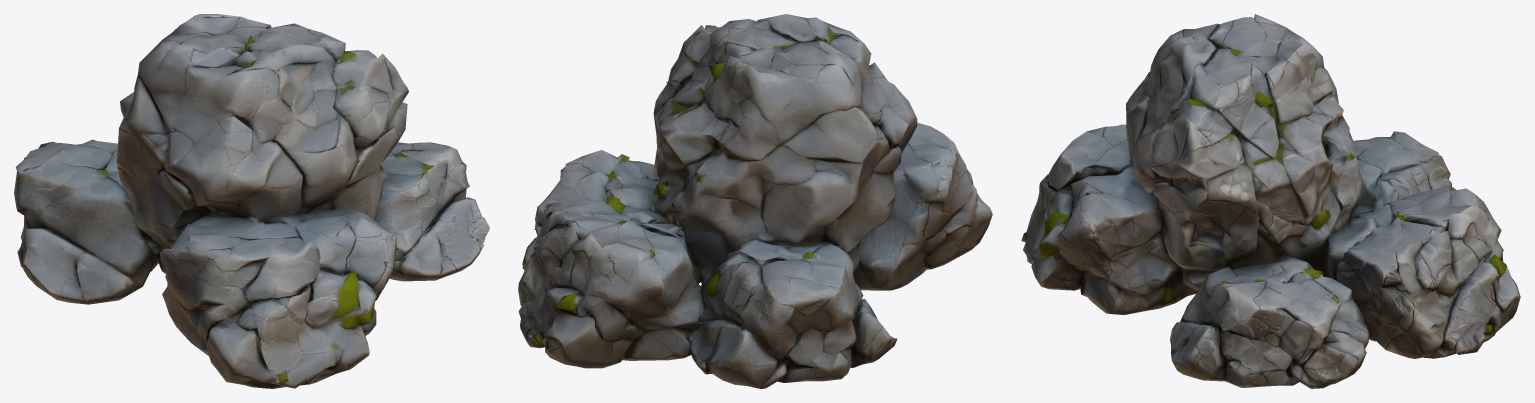
3 renders of one model, left to right at view 1: azimuth 30°, elevation 25°; view 2: azimuth 150°, elevation 25°; view 3: azimuth 270°, elevation 25°, orthographic. The views are drawn at different scales.
Visible parts, largest first — view 1: tripo_node_b9939502-7335-4baf-9714-017a0060d079; view 2: tripo_node_b9939502-7335-4baf-9714-017a0060d079; view 3: tripo_node_b9939502-7335-4baf-9714-017a0060d079.
Part boxes in pixels (left/top/right/bottom): tripo_node_b9939502-7335-4baf-9714-017a0060d079: left=14, top=14, right=489, bottom=388; tripo_node_b9939502-7335-4baf-9714-017a0060d079: left=518, top=14, right=992, bottom=388; tripo_node_b9939502-7335-4baf-9714-017a0060d079: left=1021, top=14, right=1520, bottom=388.
Bounding box in the file's own units: 0.8463 × 0.5495 × 1.
Materials: 1 (1 with a texture image).
